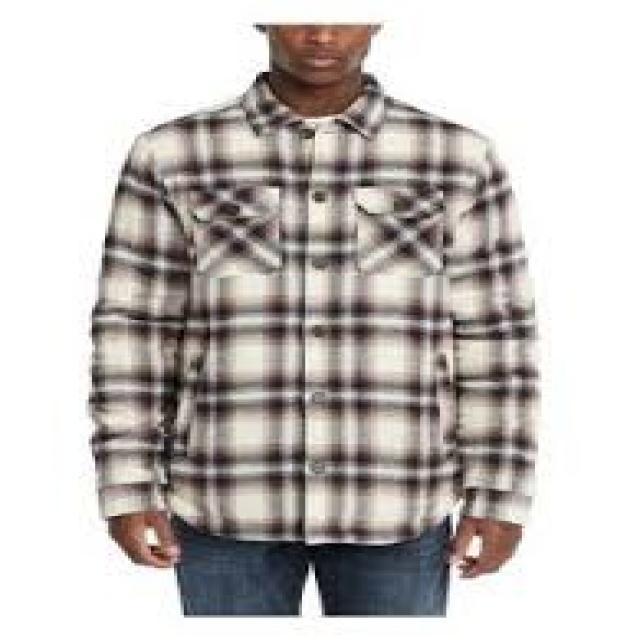plaid: (94, 77, 549, 536)
